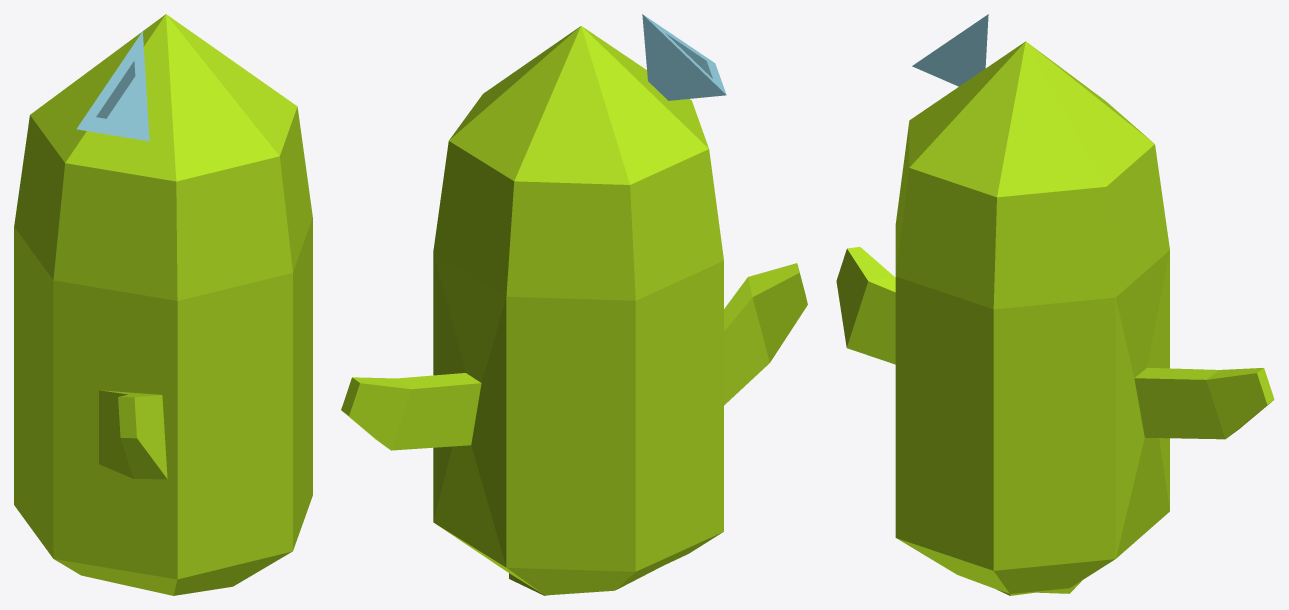
Rendered from Cactus2.glb.
3 renders of one model, left to right at view 1: azimuth 30°, elevation 25°; view 2: azimuth 150°, elevation 25°; view 3: azimuth 270°, elevation 25°, orthographic. The views are drawn at different scales.
Parts seen in each view (by area): view 1: Cactus2; view 2: Cactus2; view 3: Cactus2.
Part boxes in pixels (x1=…): Cactus2: x1=14, y1=14, x2=312, y2=595; Cactus2: x1=341, y1=14, x2=807, y2=595; Cactus2: x1=836, y1=14, x2=1274, y2=595.
Size of the model in its own units: 0.7167 by 1.46 by 1.08.
Materials: 1 (1 with a texture image).
